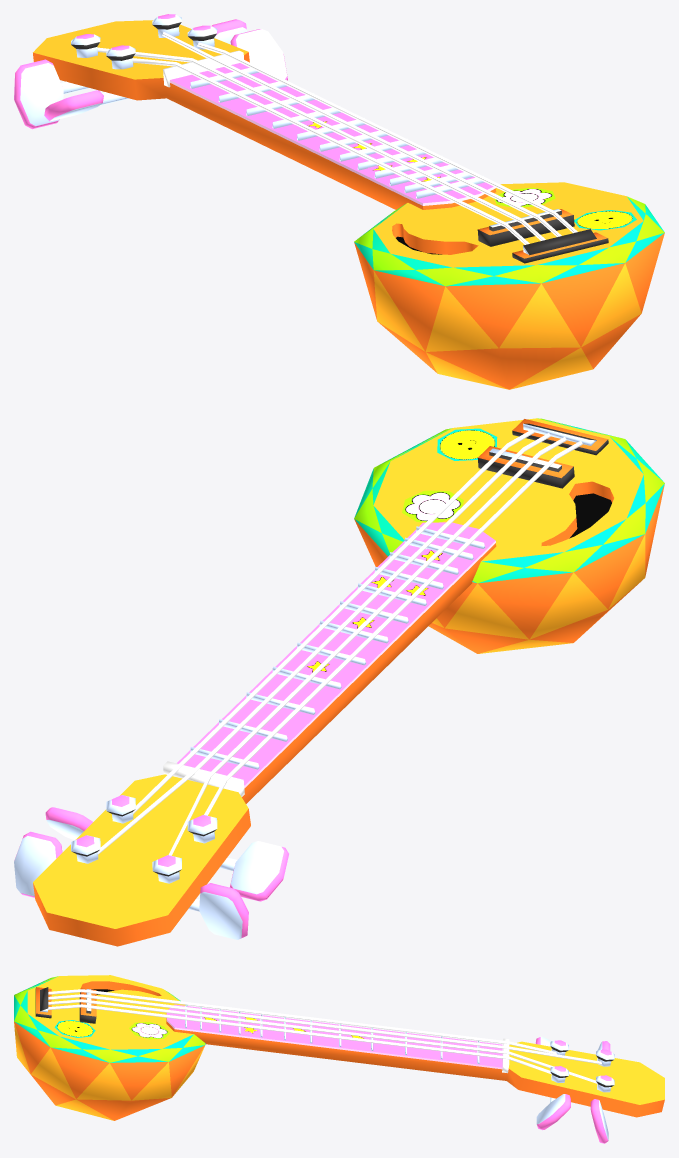
Rendered from cocobay_env_cocolele.gltf.
The picture shows the model from 3 angles, top to bottom: view 1: azimuth 30°, elevation 25°; view 2: azimuth 150°, elevation 25°; view 3: azimuth 270°, elevation 25°; orthographic projection. The views are drawn at different scales.
Parts seen in each view (by area): view 1: cocobay_env_cocolele_glb; view 2: cocobay_env_cocolele_glb; view 3: cocobay_env_cocolele_glb.
Part boxes in pixels (left/top/right/bottom): cocobay_env_cocolele_glb: left=14, top=14, right=664, bottom=389; cocobay_env_cocolele_glb: left=14, top=418, right=664, bottom=946; cocobay_env_cocolele_glb: left=14, top=975, right=664, bottom=1143.
Size of what is drawn, in the model's own units: 1.26 by 0.7837 by 4.04.
Materials: 1 (1 with a texture image).
